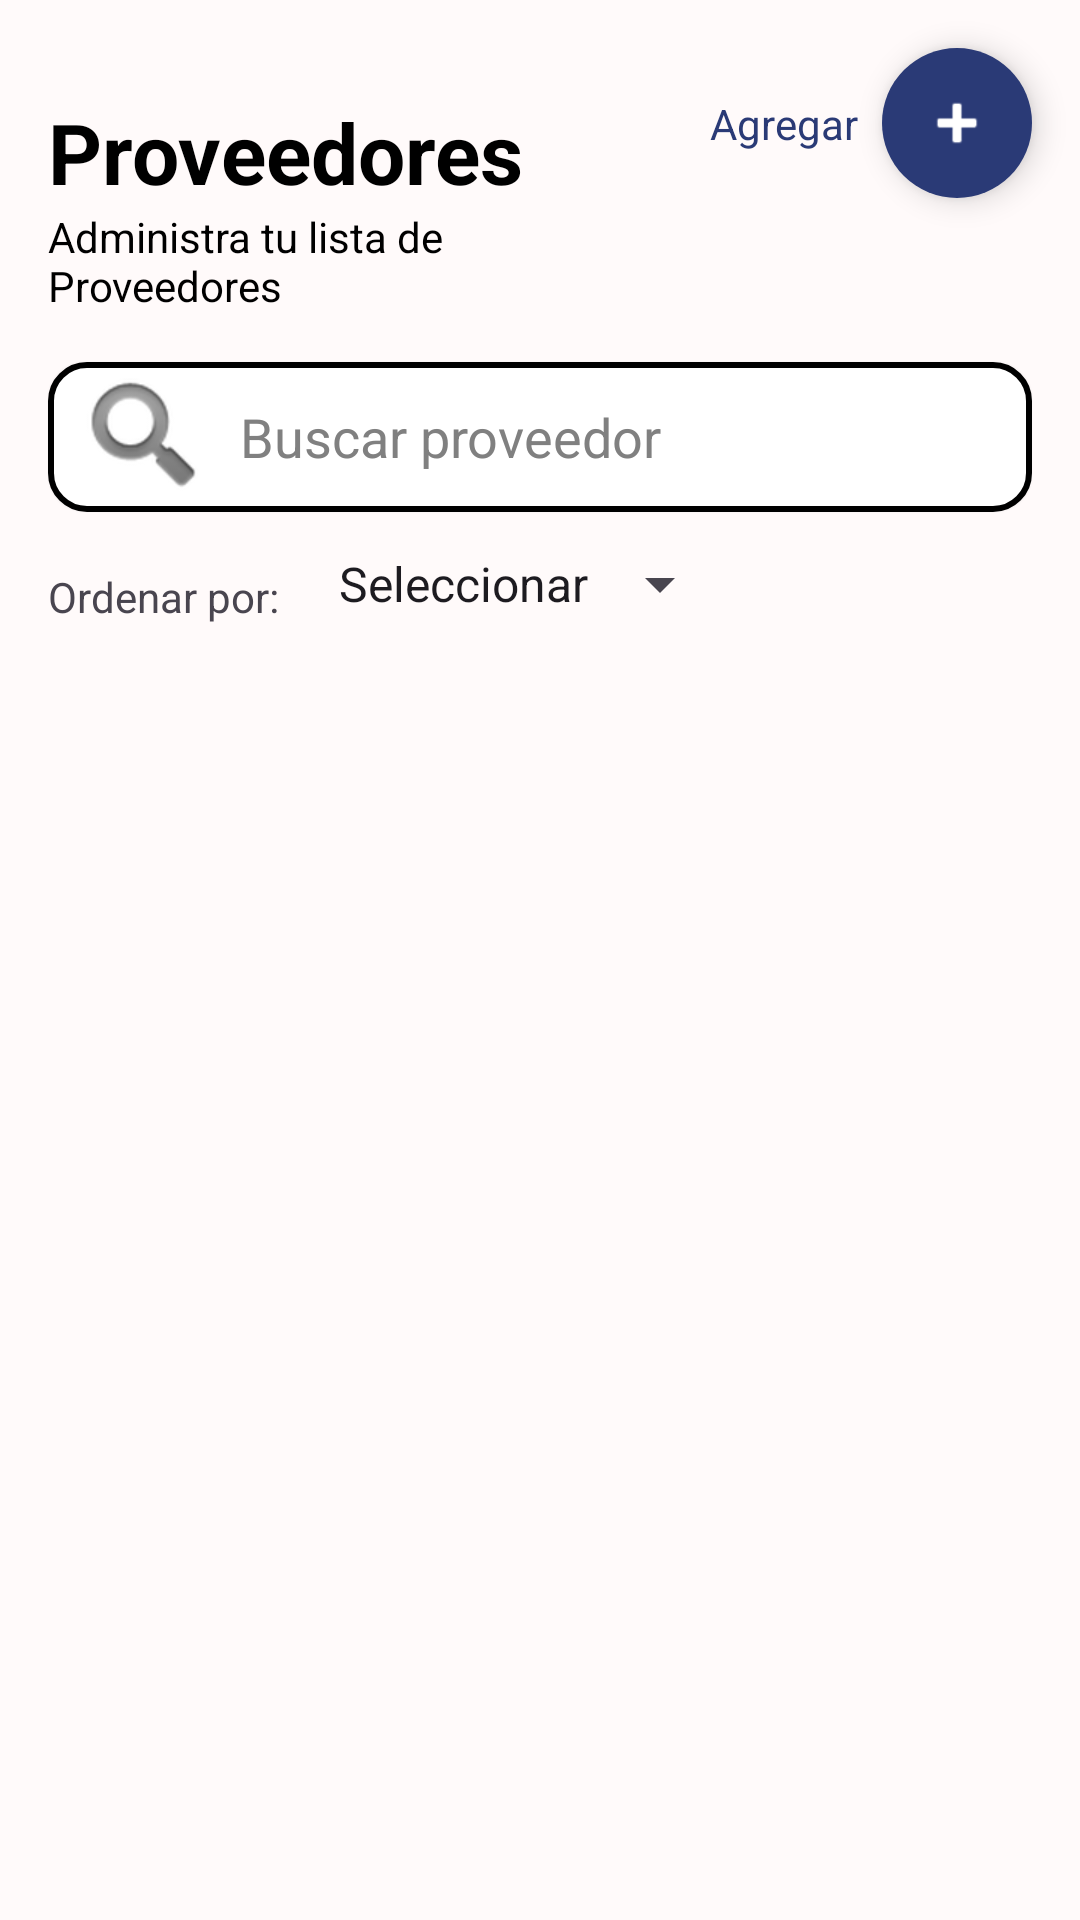

Icons on this 1080 × 1920 Android screen, each with its box as (x1, y1, x2, y2):
Añadir nuevo proveedor: (882, 48, 1032, 198)
